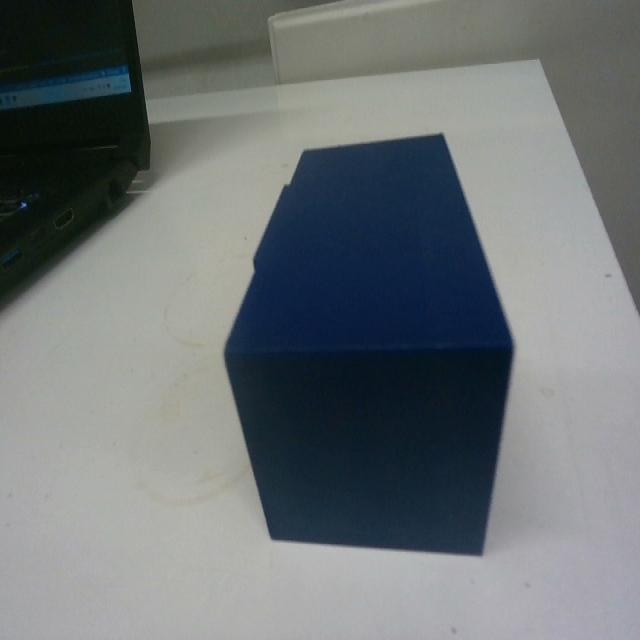Blue Cuboid: (222, 128, 516, 556)
